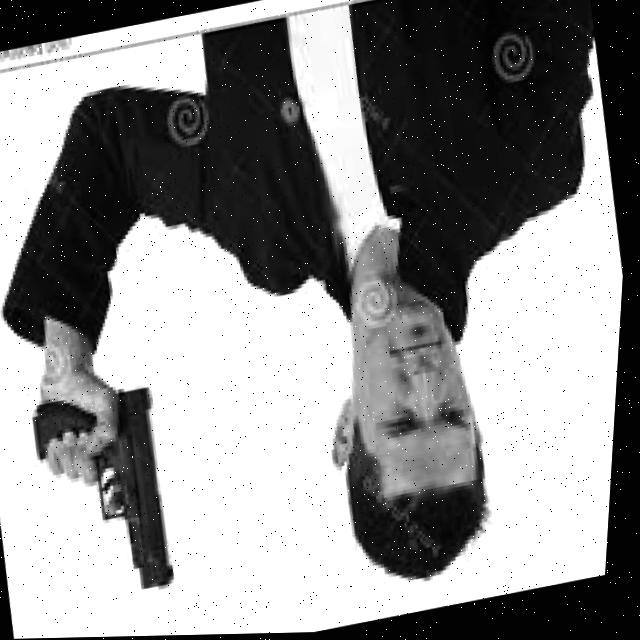pistol: (26, 383, 194, 614)
